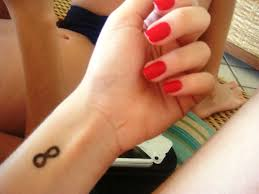hand: (87, 0, 221, 133)
